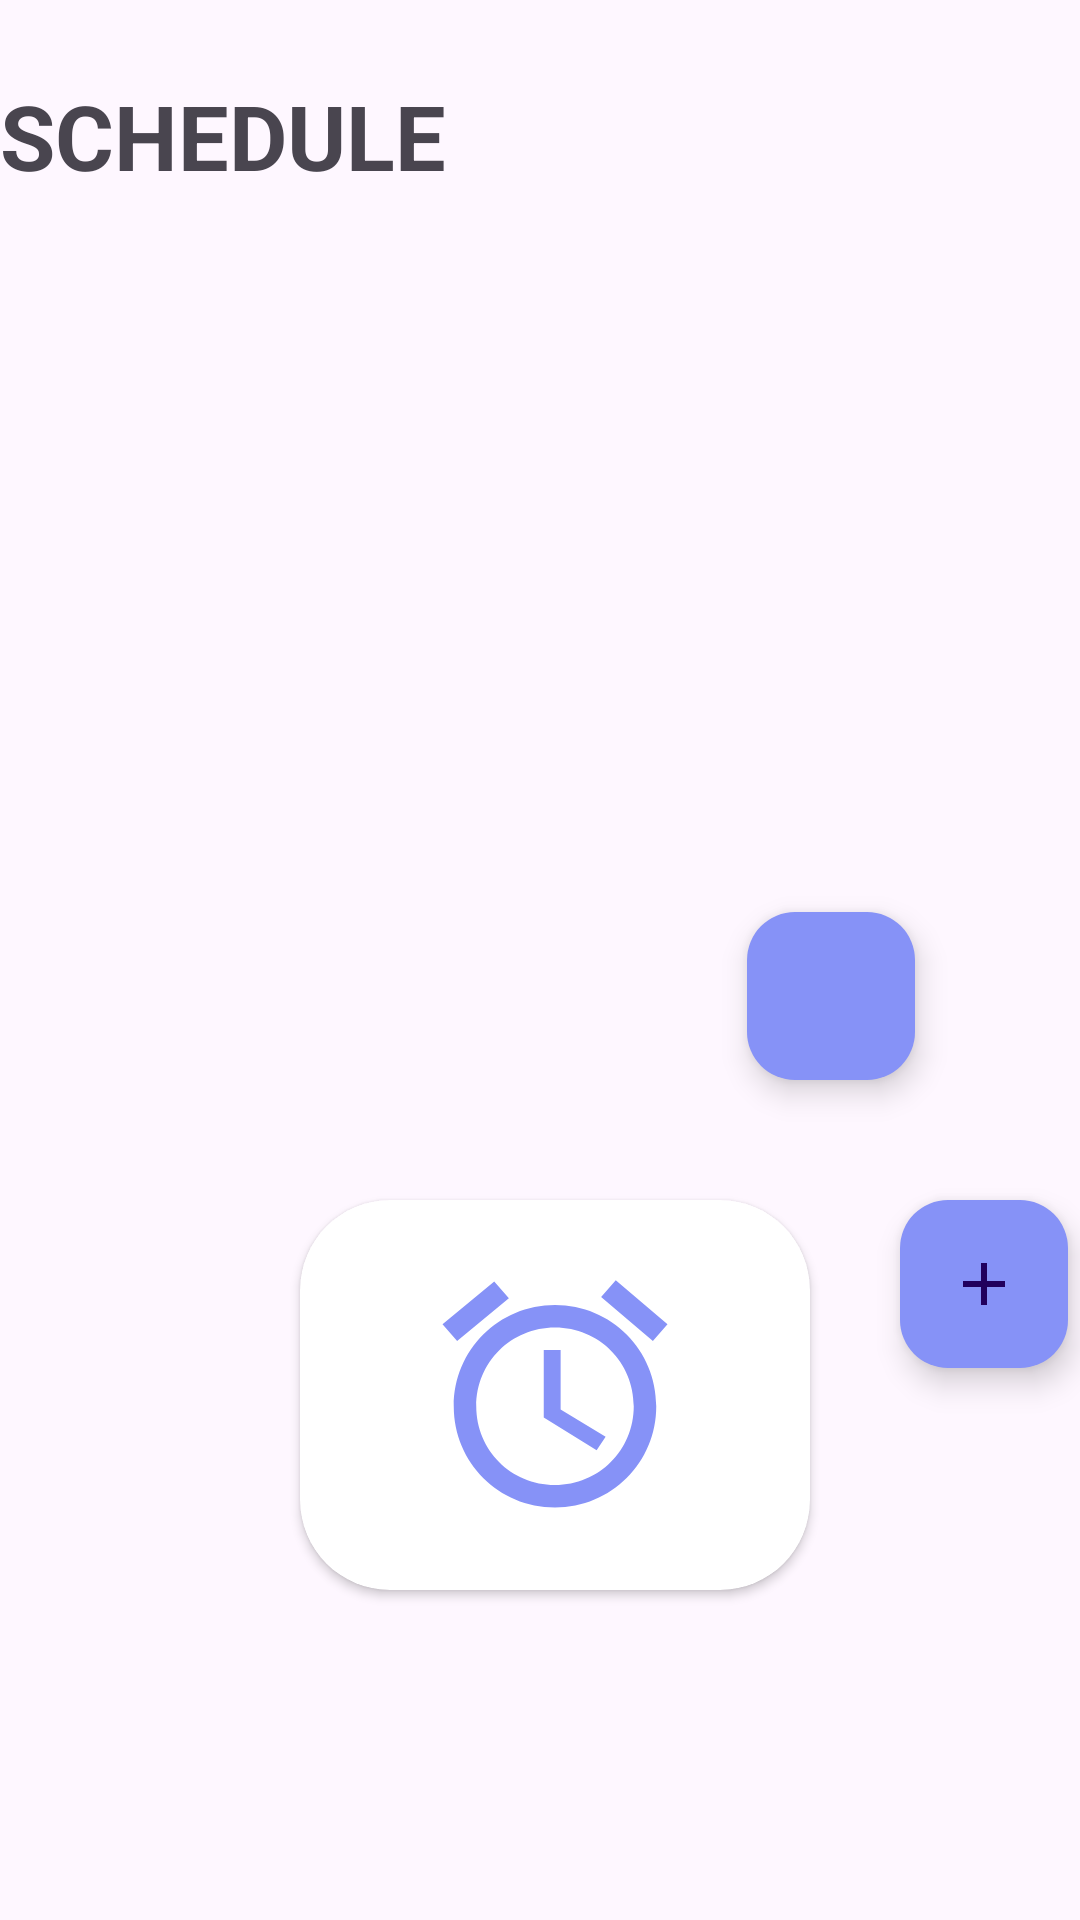

Icon click points for this 1080x1920 phone screenshot, format point (x, y):
access alarms: point (555, 1394)
add: point (984, 1284)
